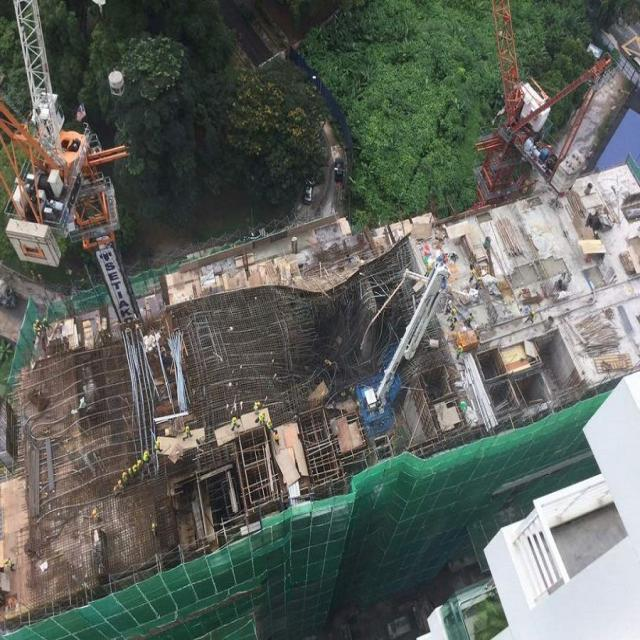collapsed_building: (207, 199, 487, 577)
